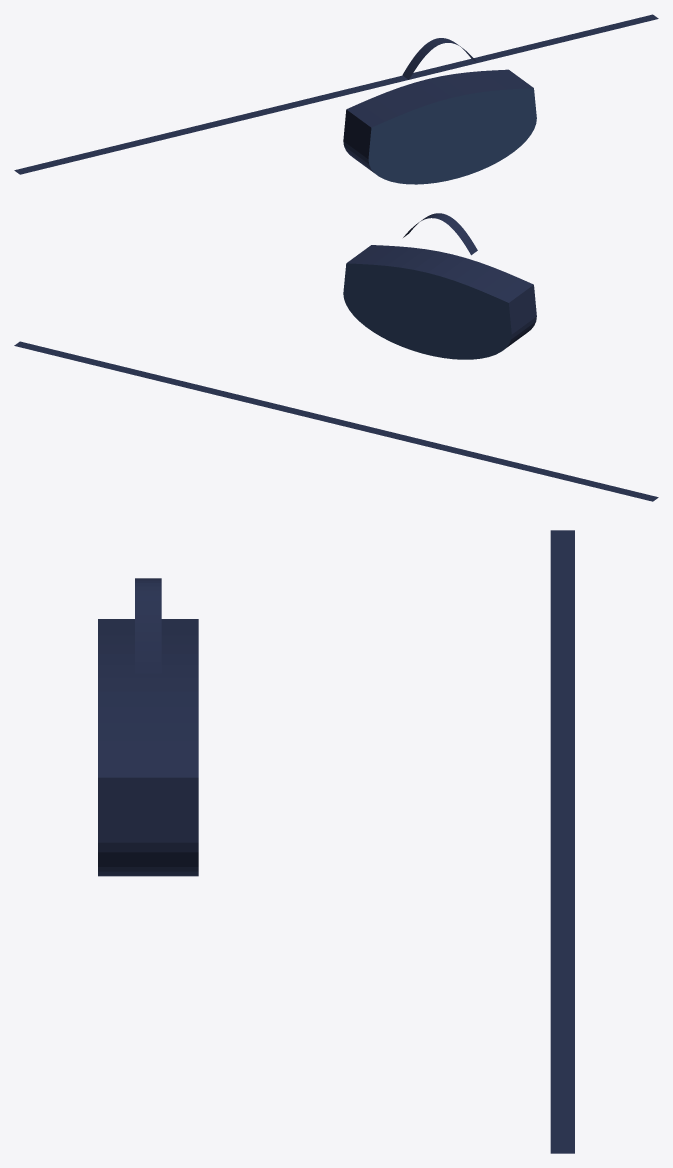
File: riverwalk-blues.glb
The picture shows the model from 3 angles, top to bottom: view 1: azimuth 30°, elevation 25°; view 2: azimuth 150°, elevation 25°; view 3: azimuth 270°, elevation 25°; orthographic projection. The views are drawn at different scales.
Parts seen in each view (by area): view 1: CrescentBody, CrossbodyStrap, ShoulderStrap; view 2: CrescentBody, CrossbodyStrap, ShoulderStrap; view 3: CrescentBody, CrossbodyStrap, ShoulderStrap.
Part boxes in pixels (x1,y1,x2,y2): CrescentBody: (343, 69, 536, 184); CrossbodyStrap: (14, 14, 658, 174); ShoulderStrap: (402, 38, 477, 79); CrescentBody: (343, 245, 536, 359); CrossbodyStrap: (14, 341, 658, 501); ShoulderStrap: (403, 213, 477, 255); CrescentBody: (98, 619, 198, 876); CrossbodyStrap: (550, 530, 574, 1153); ShoulderStrap: (135, 578, 161, 673).
Size of the model in its own units: 1.1 by 0.213 by 0.3555.
